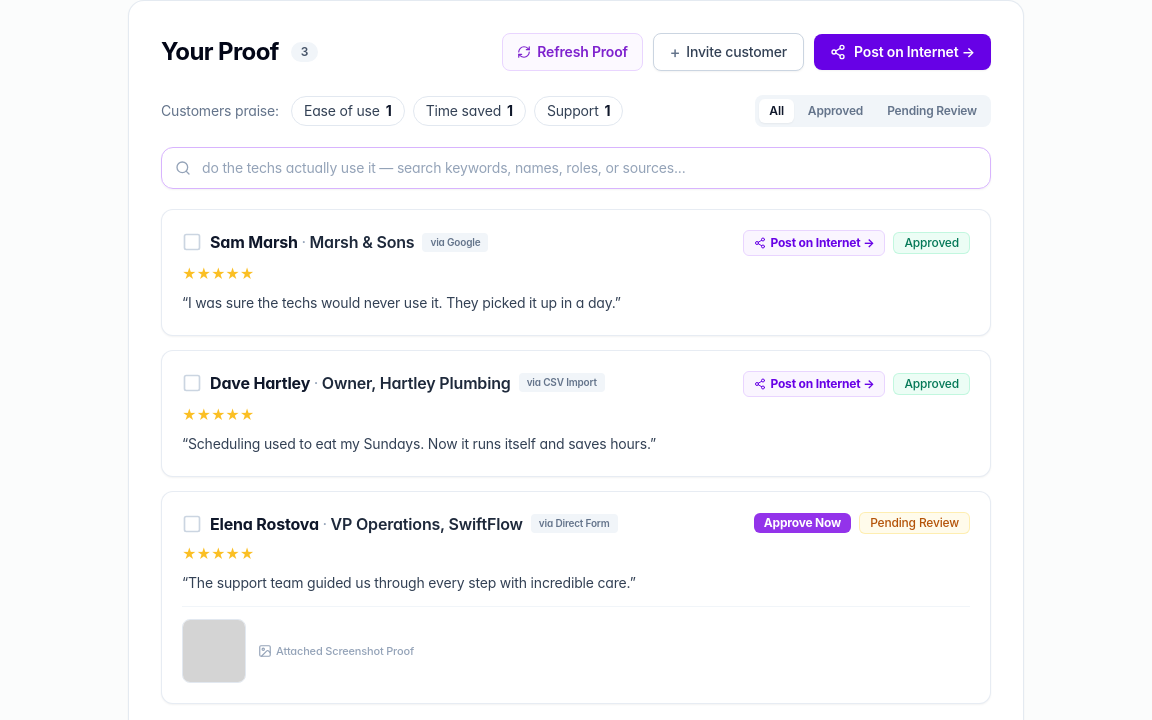
Test: ProofSection Component › opens Invite Customer modal on clicking "+ Invite customer"
This screenshot has width=1152, height=720.
Click the button "+ Invite customer" at (728, 52), box [653,33,804,71]
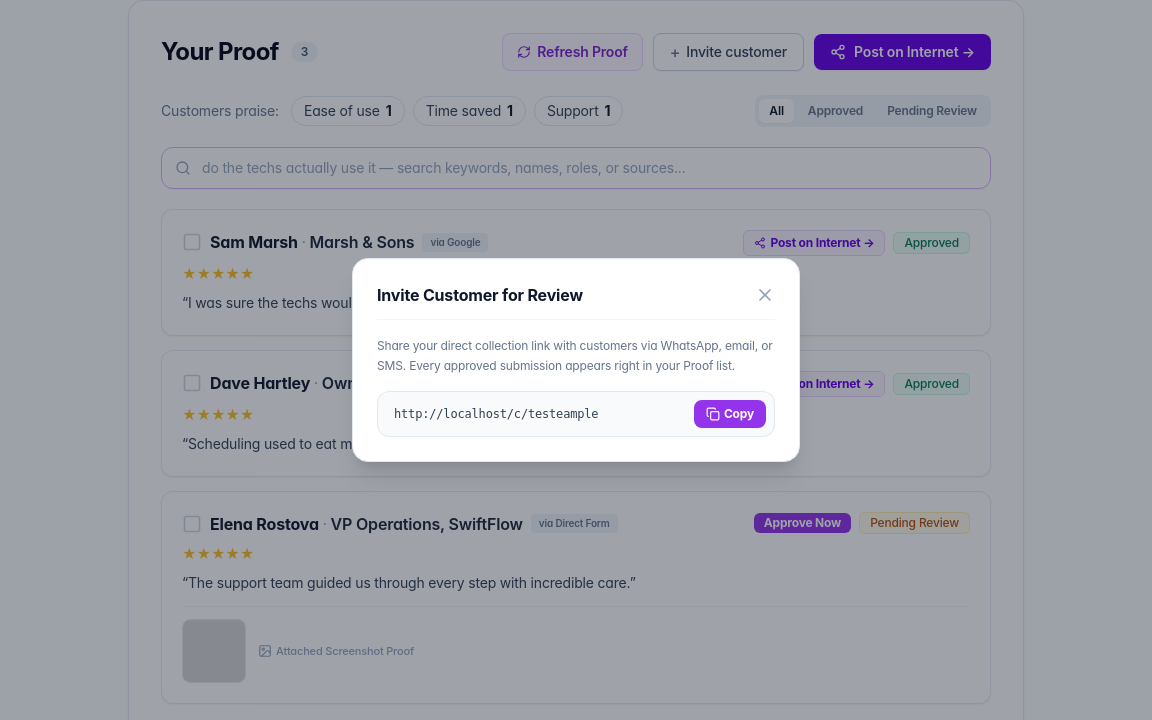
Expected: the text "Invite Customer for Review" is shown, [377,283,583,307]
Expected: the field is shown, [386,406,686,422]
